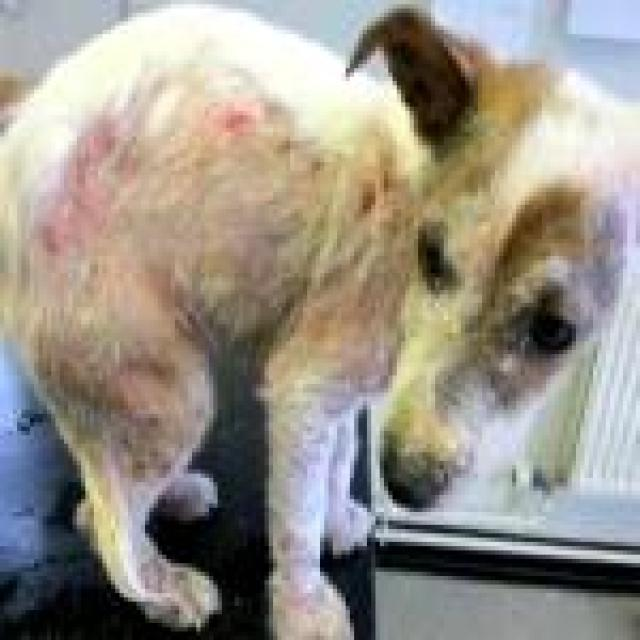fungal infection: (30, 131, 135, 254), (110, 350, 192, 412), (348, 156, 401, 221), (474, 336, 531, 396), (457, 208, 506, 271), (208, 98, 262, 141), (279, 589, 320, 618)
